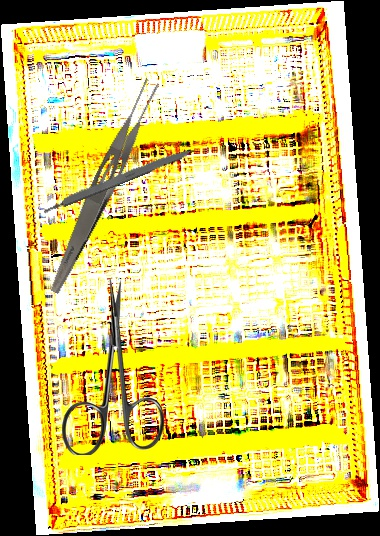Dressing Forceps: (45, 75, 164, 299)
Iris Scissors: (62, 279, 164, 455)
Scalpel Handle: (40, 144, 196, 215)
